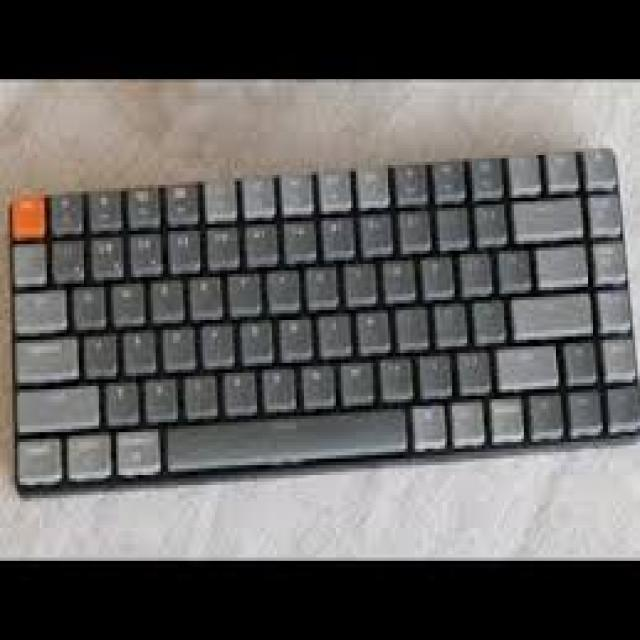keyboard: (11, 149, 640, 488)
